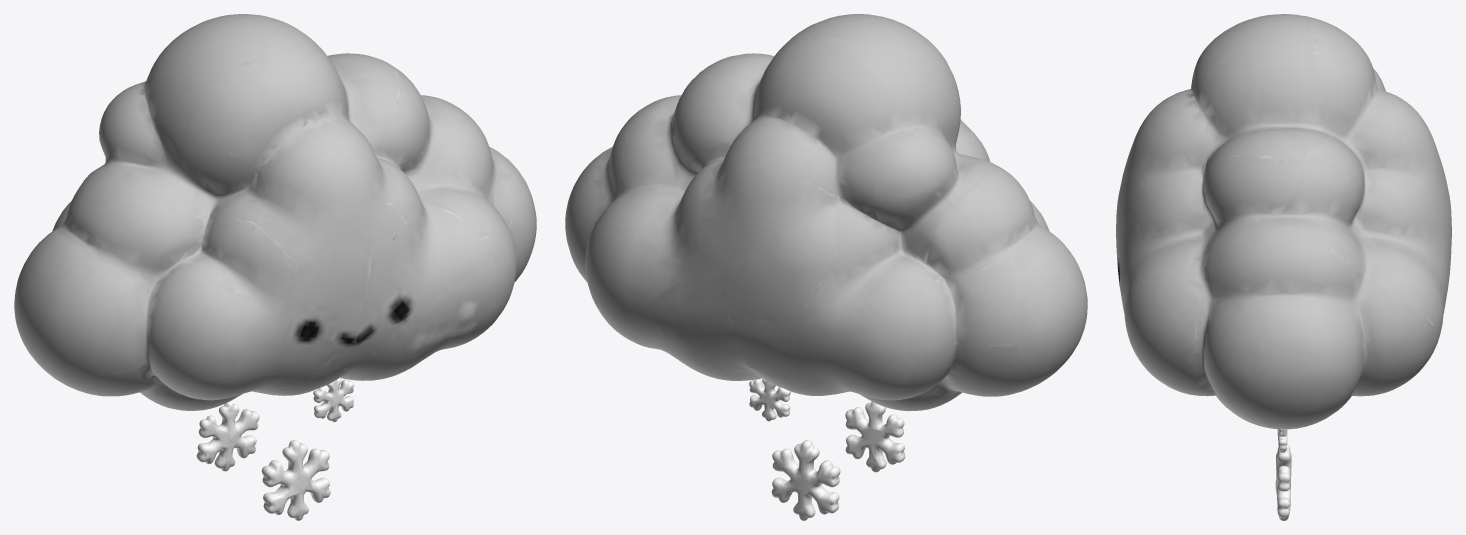
Rendered from poplur_cube_snow_cloud.glb.
3 renders of one model, left to right at view 1: azimuth 30°, elevation 25°; view 2: azimuth 150°, elevation 25°; view 3: azimuth 270°, elevation 25°, orthographic. The views are drawn at different scales.
Visible parts, largest first — view 1: mesh_node; view 2: mesh_node; view 3: mesh_node.
Boxes of the visible parts, left/top/right/bottom form: mesh_node: left=14, top=14, right=536, bottom=520; mesh_node: left=565, top=14, right=1087, bottom=520; mesh_node: left=1116, top=14, right=1451, bottom=520.
Size of the model in its own units: 1.9 by 1.87 by 1.2.
Materials: 1 (1 with a texture image).
